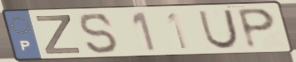1: (128, 10, 158, 54), (166, 12, 190, 50)
P: (235, 6, 279, 51)
S: (78, 11, 121, 55)
U: (196, 8, 241, 51)
Z: (34, 14, 84, 56)
